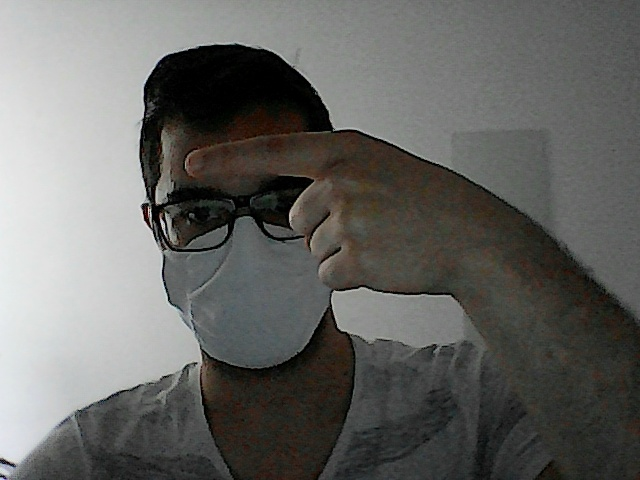right: (179, 122, 455, 302)
